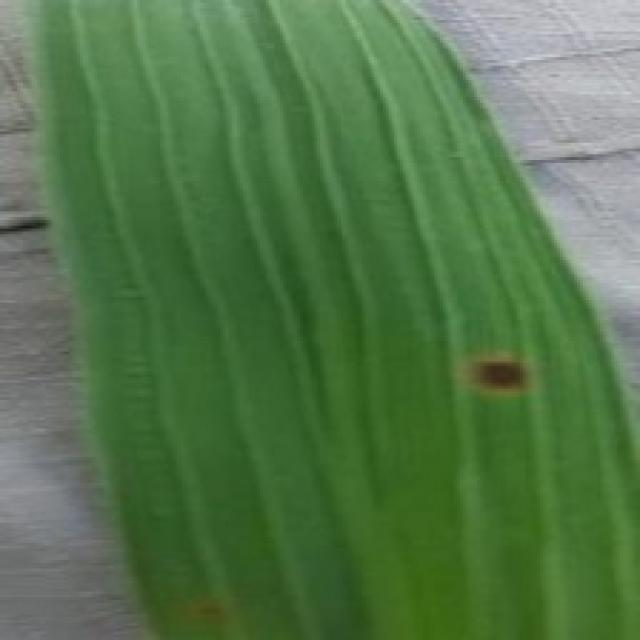Rice___Brown_Spot: (35, 0, 637, 637)
